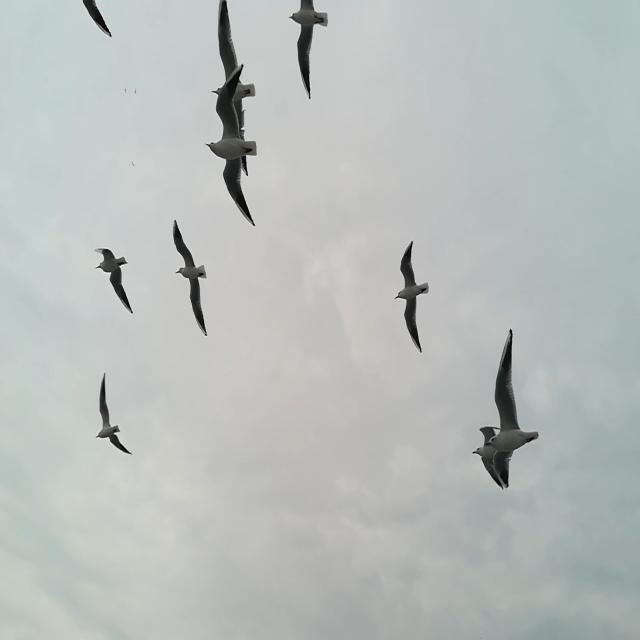bird: (486, 328, 540, 490), (204, 64, 257, 228), (211, 0, 257, 176), (172, 219, 209, 339), (395, 240, 430, 352), (289, 0, 328, 98), (95, 373, 132, 457), (92, 246, 134, 314), (471, 425, 505, 494), (82, 0, 112, 37), (131, 160, 135, 168), (124, 88, 127, 94), (134, 88, 137, 94)
